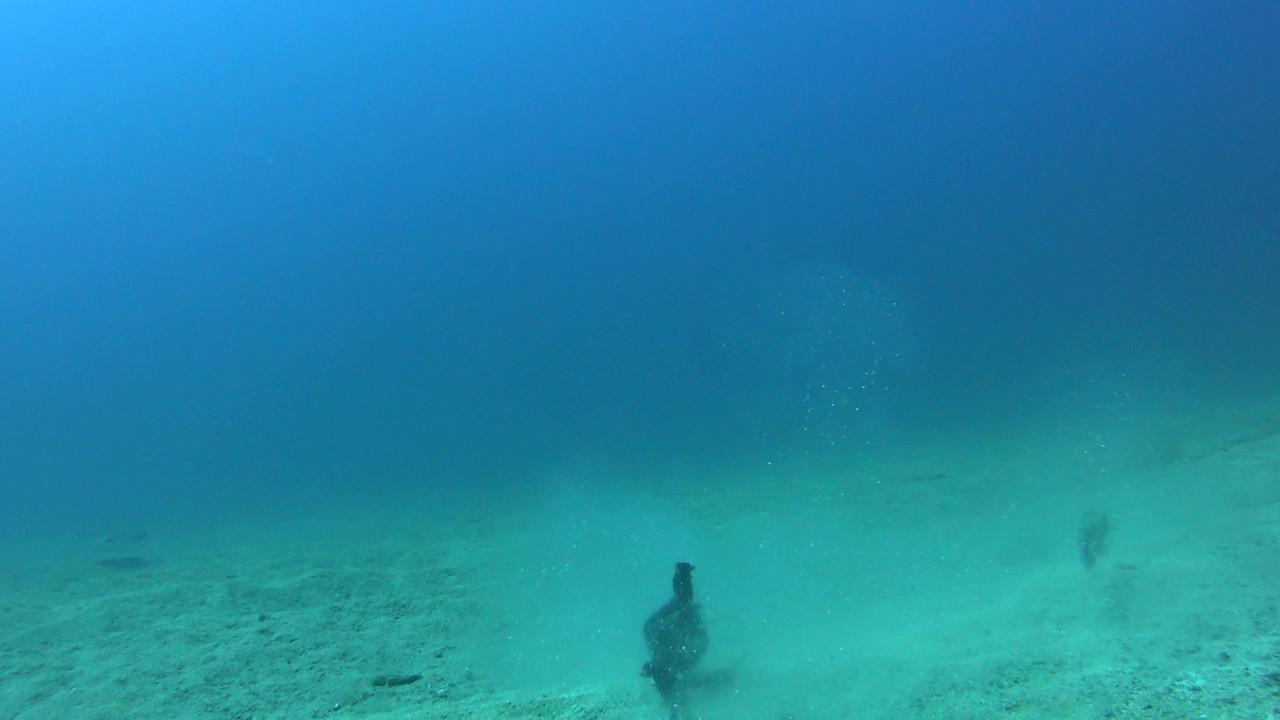myliobatis: (92, 514, 163, 558)
